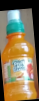orange: (1, 9, 38, 101)
